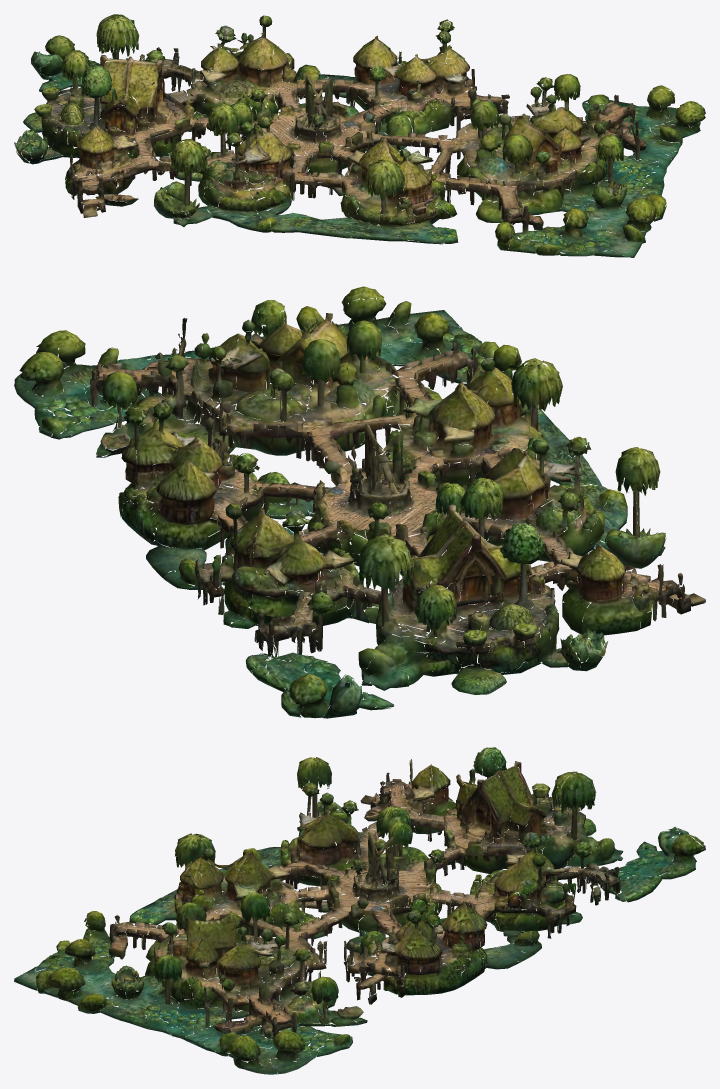
The model's file is frogtown_lite.glb.
3 views of the same model, one above another, from view 1: azimuth 30°, elevation 25°; view 2: azimuth 150°, elevation 25°; view 3: azimuth 270°, elevation 25° (orthographic). The views are drawn at different scales.
Visible parts, largest first — view 1: frogtown_lite; view 2: frogtown_lite; view 3: frogtown_lite.
Part boxes in pixels (x1,y1,x2,y2): frogtown_lite: (14,14,705,257); frogtown_lite: (14,286,705,718); frogtown_lite: (14,747,705,1074).
Size of the model in its own units: 92.22 by 14.72 by 98.05.
1 material, 1 textured.
